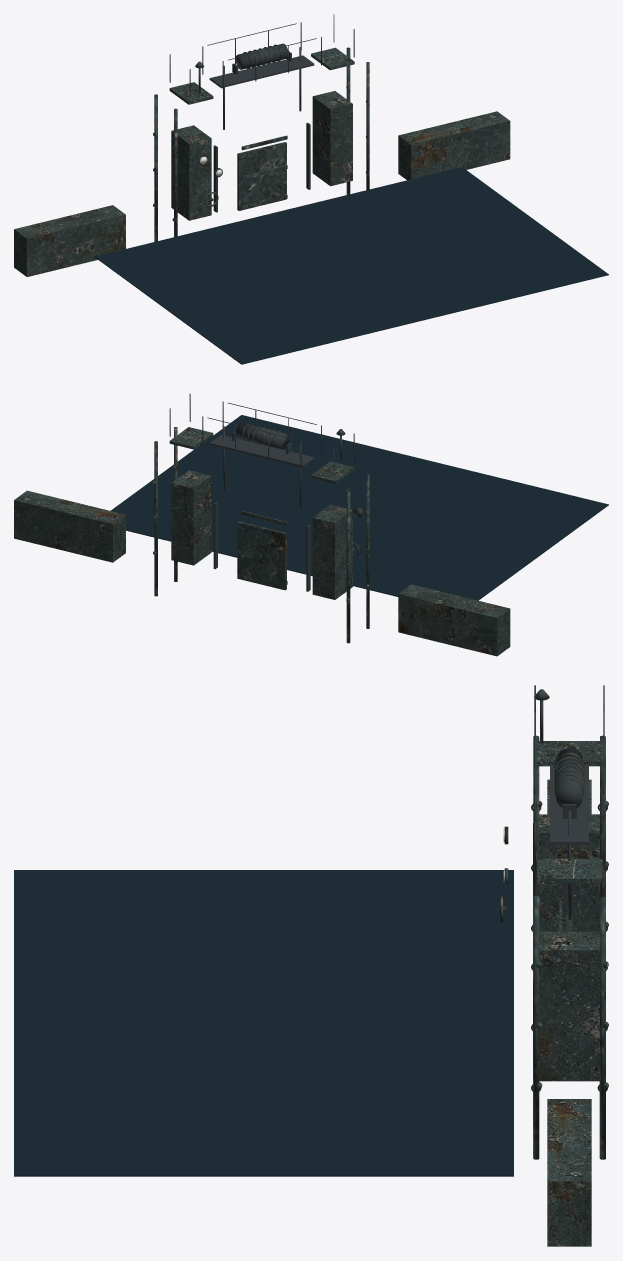
Rendered from SM_Env_GateThree.fbx.
3 renders of one model, top to bottom at view 1: azimuth 30°, elevation 25°; view 2: azimuth 150°, elevation 25°; view 3: azimuth 270°, elevation 25°, orthographic. The views are drawn at different scales.
Parts seen in each view (by area): view 1: gt-water, gt-wall-L, gt-wall-R, gt-pier-R, gt-pier-L, gt-leaf, gt-platform, gt-drum, gt-pier-L-cap, gt-pier-R-cap, gt-pipe-L-1, gt-pipe-L-0 (+1 smaller); view 2: gt-water, gt-wall-L, gt-wall-R, gt-pier-R, gt-pier-L, gt-leaf, gt-platform, gt-pipe-L-1, gt-drum, gt-pier-R-cap, gt-pier-L-cap, gt-pipe-R-1 (+1 smaller); view 3: gt-water, gt-pier-R, gt-wall-R, gt-pier-L, gt-pipe-R-0, gt-platform, gt-pier-R-cap, gt-pipe-R-1, gt-pier-L-cap, gt-drum, gt-pipe-L-1, gt-pipe-L-0.
Boxes of the visible parts, <box> form: gt-water: <box>95,167,608,364</box>; gt-wall-L: <box>14,205,125,276</box>; gt-wall-R: <box>398,111,510,180</box>; gt-pier-R: <box>312,91,352,186</box>; gt-pier-L: <box>171,125,211,220</box>; gt-leaf: <box>237,142,286,210</box>; gt-platform: <box>209,55,314,88</box>; gt-drum: <box>235,43,288,69</box>; gt-pier-L-cap: <box>169,82,213,104</box>; gt-pier-R-cap: <box>311,47,354,70</box>; gt-pipe-L-1: <box>154,94,157,241</box>; gt-pipe-L-0: <box>174,108,177,236</box>; gt-water: <box>110,415,608,600</box>; gt-wall-L: <box>398,584,510,656</box>; gt-wall-R: <box>14,490,125,562</box>; gt-pier-R: <box>171,470,211,565</box>; gt-pier-L: <box>312,504,352,599</box>; gt-leaf: <box>237,521,286,590</box>; gt-platform: <box>209,434,314,467</box>; gt-pipe-L-1: <box>346,488,350,643</box>; gt-drum: <box>236,423,288,448</box>; gt-pier-R-cap: <box>169,427,213,449</box>; gt-pier-L-cap: <box>311,461,354,483</box>; gt-pipe-R-1: <box>154,441,157,596</box>; gt-water: <box>14,870,513,1176</box>; gt-pier-R: <box>539,931,599,1081</box>; gt-wall-R: <box>547,1099,591,1246</box>; gt-pier-L: <box>539,814,599,931</box>; gt-pipe-R-0: <box>533,895,539,1159</box>; gt-platform: <box>550,764,588,844</box>; gt-pier-R-cap: <box>537,858,602,883</box>; gt-pipe-R-1: <box>599,895,605,1159</box>; gt-pier-L-cap: <box>537,741,602,766</box>; gt-drum: <box>556,748,582,807</box>; gt-pipe-L-1: <box>600,735,605,895</box>; gt-pipe-L-0: <box>533,735,539,982</box>.
Bounding box in the file's own units: 1710 × 655 × 1071.
Materials: 8 (4 with a texture image).
